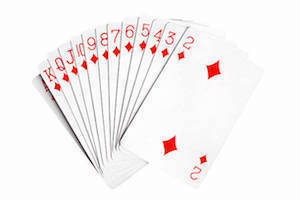AceOfDiamonds: (35, 76, 56, 107)
JackOfDiamonds: (59, 42, 81, 82)
KingOfDiamonds: (39, 61, 62, 94)
NineOfDiamonds: (83, 25, 100, 71)
QueenOfDiamonds: (53, 49, 72, 87)
TenOfDiamonds: (71, 32, 89, 74)
